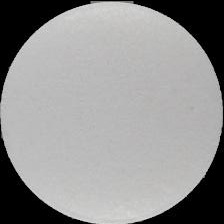69189-3320: (0, 0, 224, 224)
